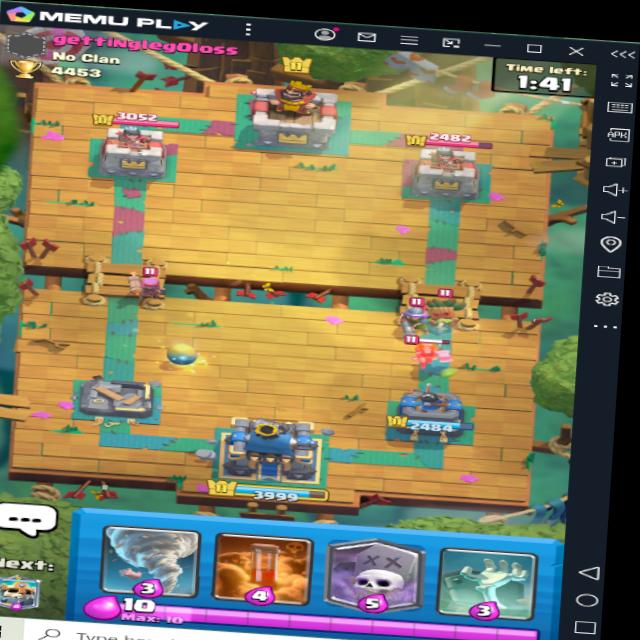dart-goblin: (422, 283, 466, 329)
firecracker: (111, 252, 173, 303)
musketeer: (390, 297, 434, 335)
valkyrie: (402, 327, 463, 382)
